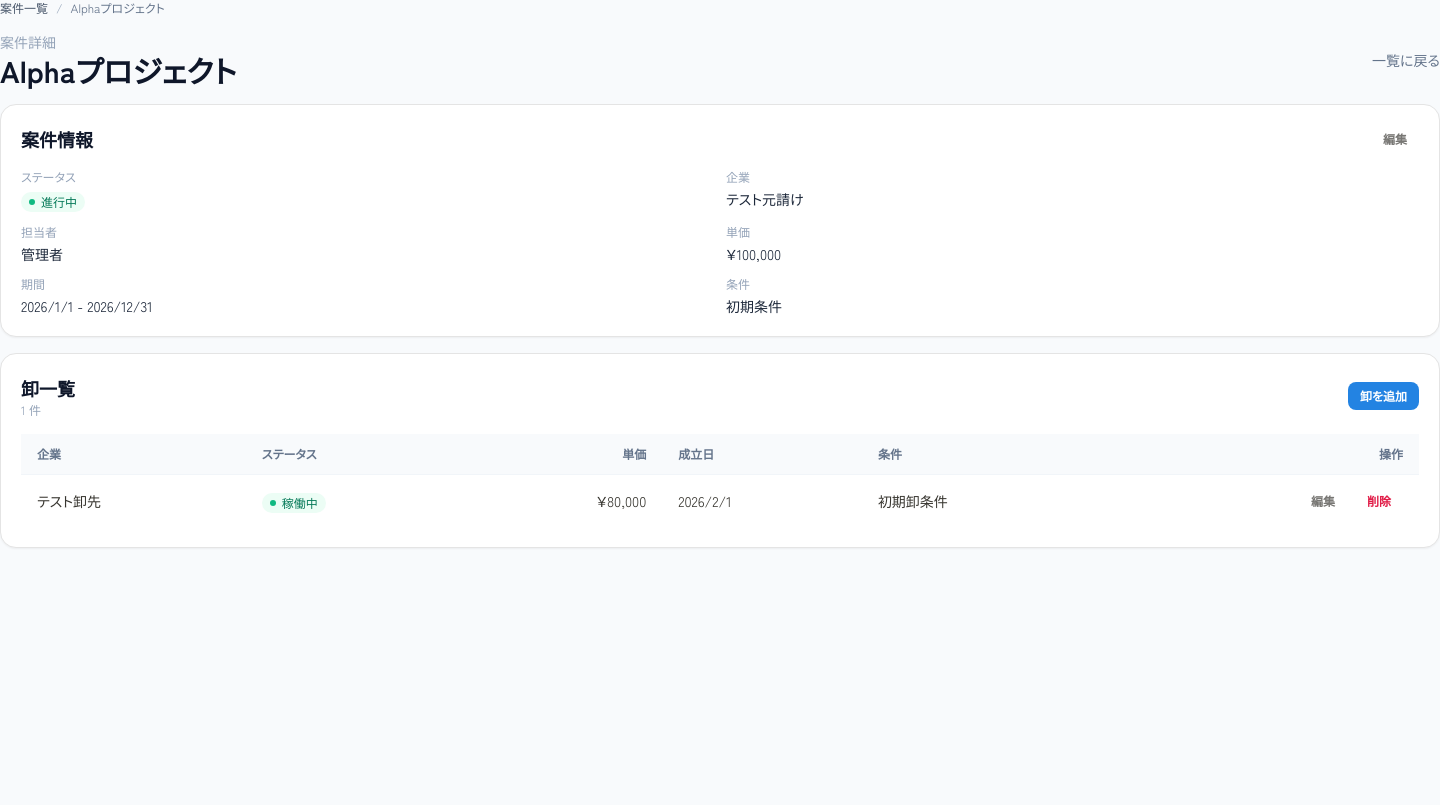
案件詳細ページ › 卸作成で企業が未選択の場合はバリデーションエラーになる
This screenshot has width=1440, height=805.
Expected: the heading "Alphaプロジェクト" is shown, [0,52,236,88]
Click the button "卸を追加" at (1383, 396), box [1348,382,1419,410]
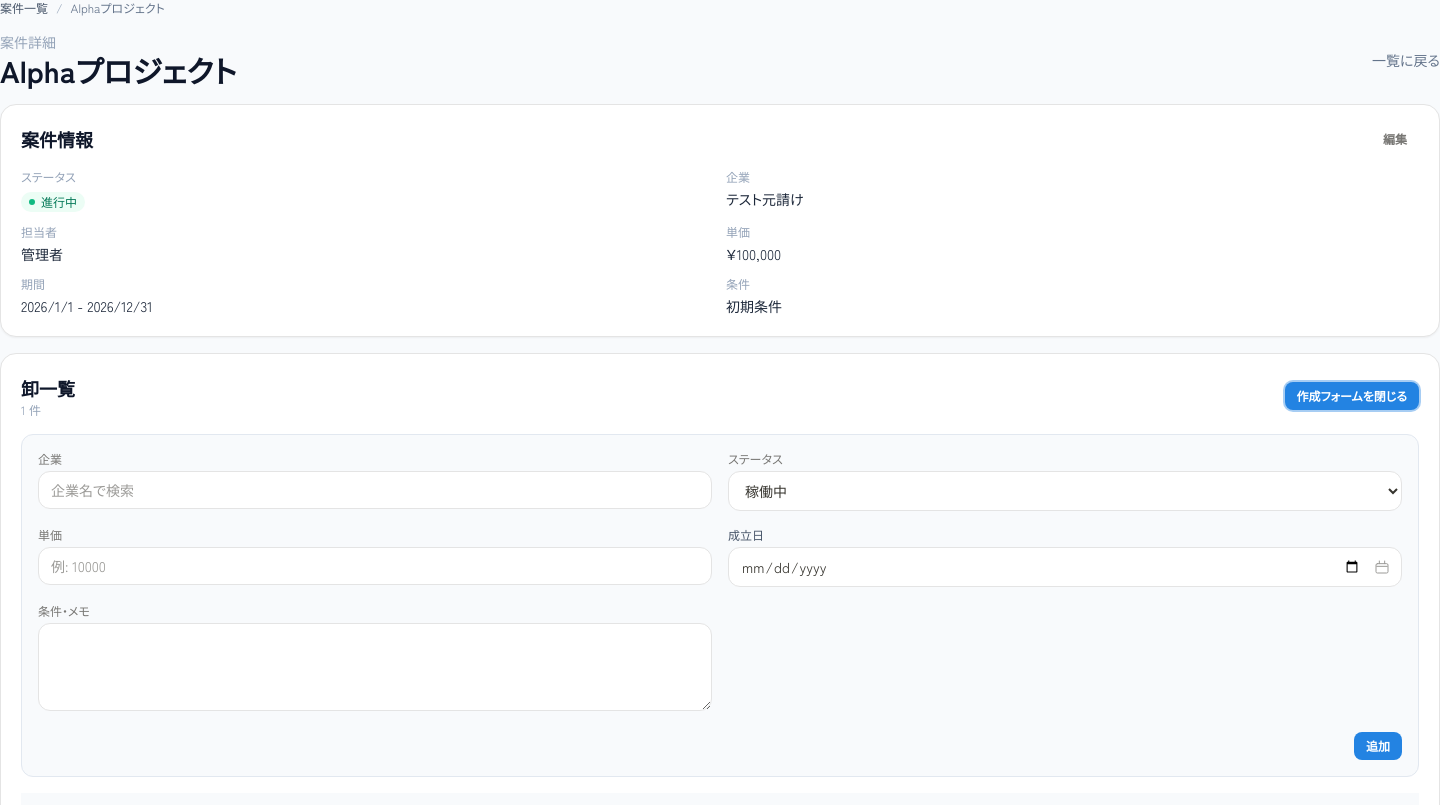
Click the button "追加" at (1378, 746), box [1354,732,1402,760]
(page scrolled)
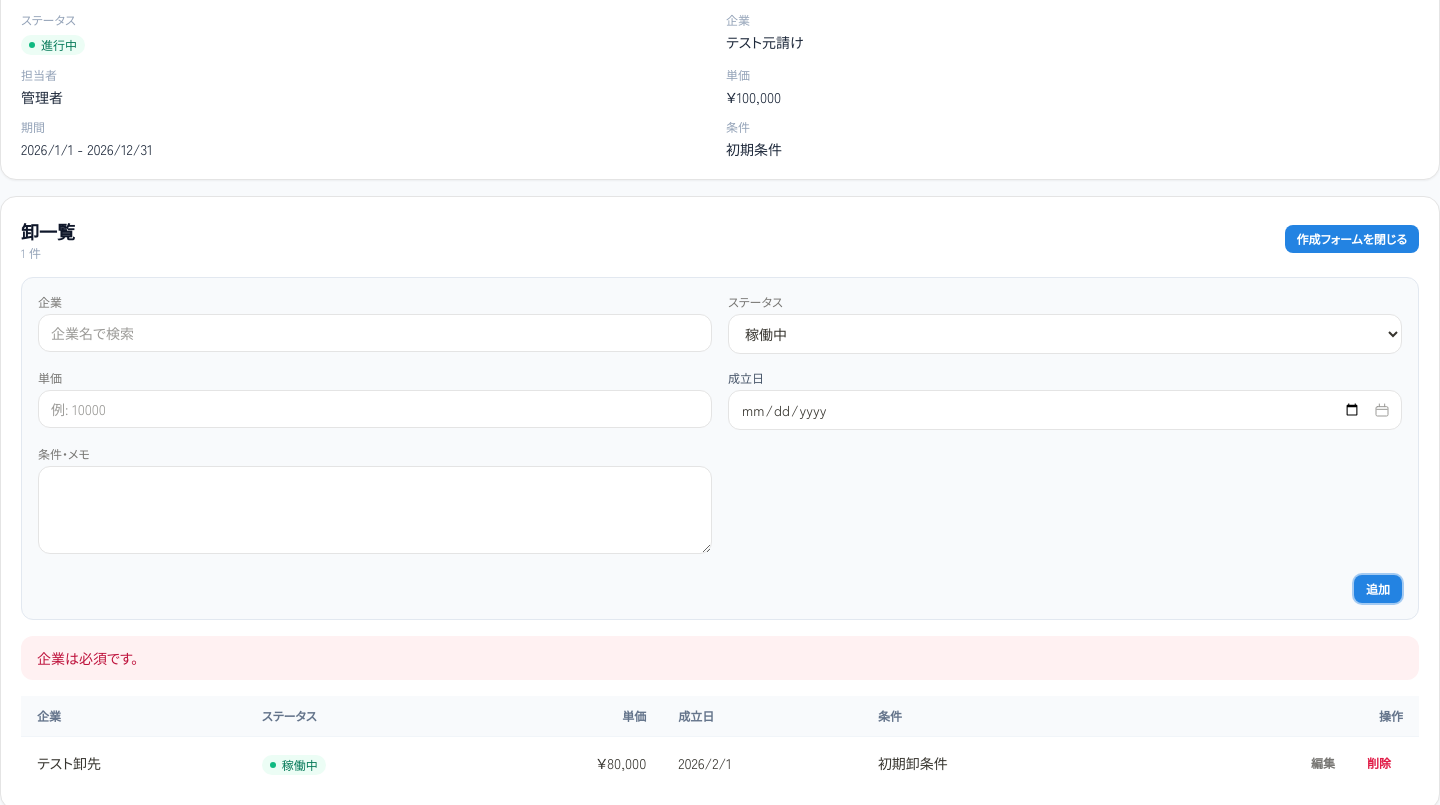
Result: the message reads "企業は必須です。" at [37,648,138,668]
